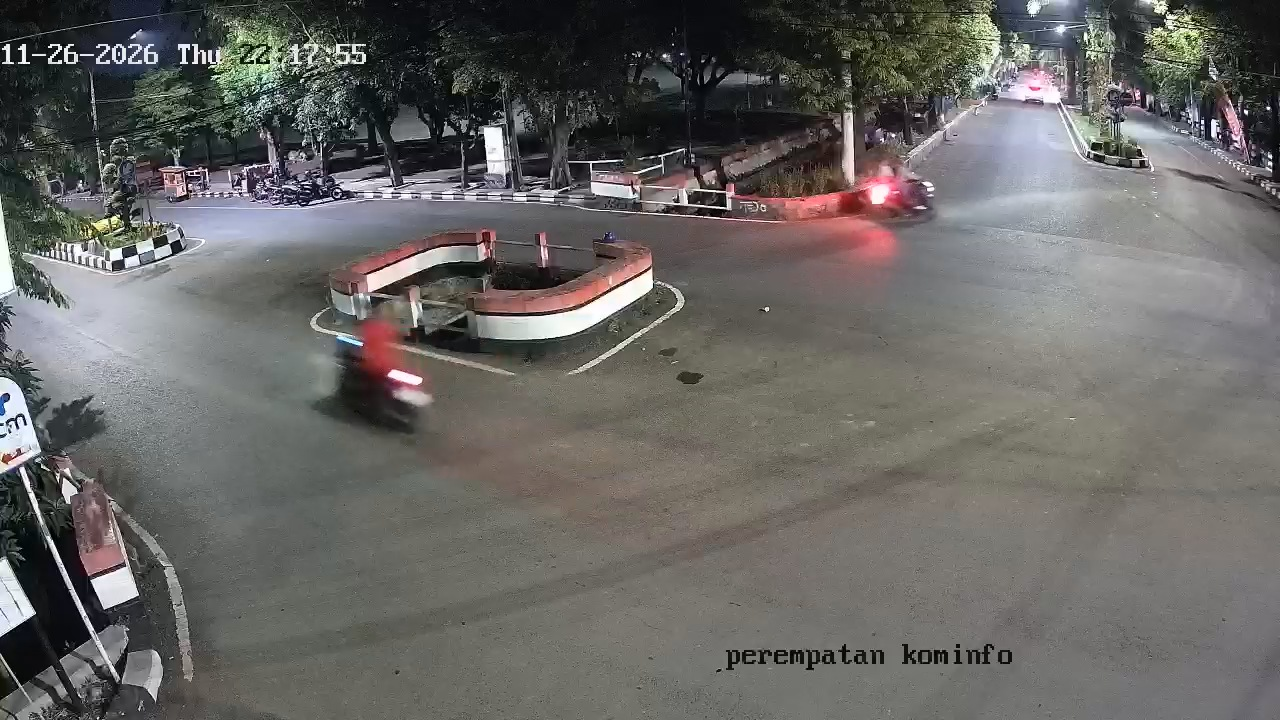Gerobak: (157, 163, 210, 203)
